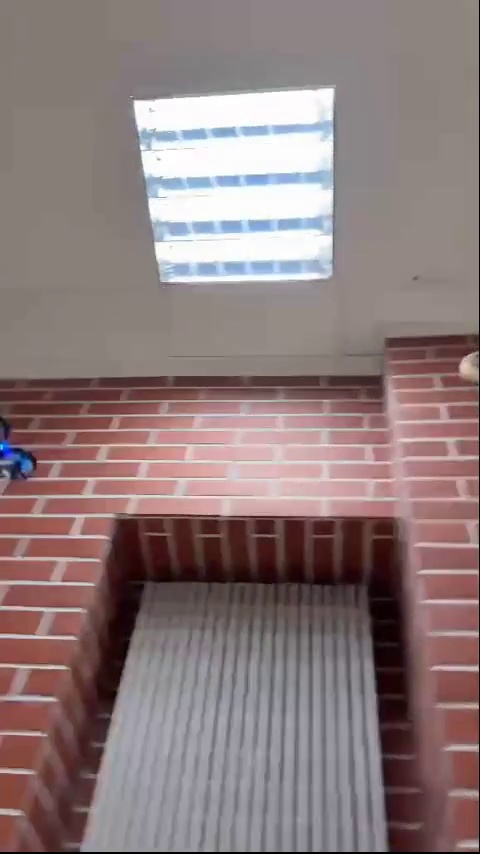drone: (0, 402, 39, 503)
